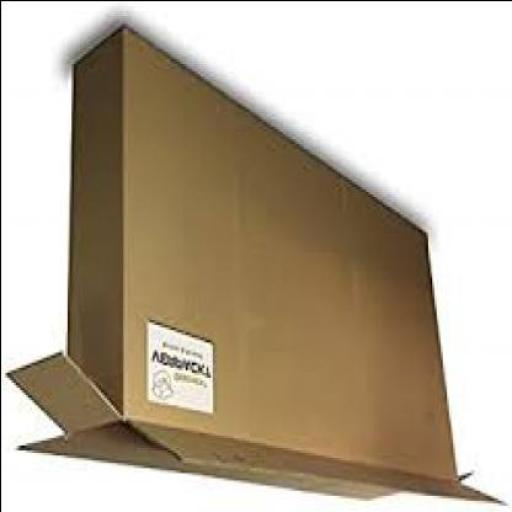cardboard: (2, 27, 500, 510)
